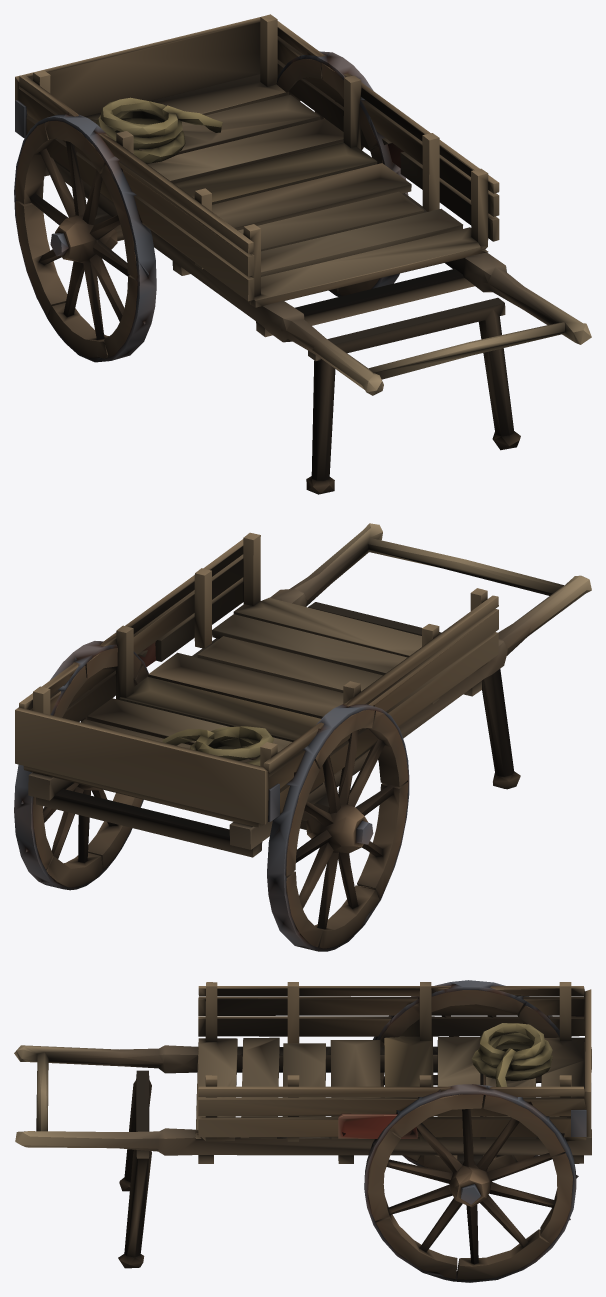
The model's file is handcart.glb.
The picture shows the model from 3 angles, top to bottom: view 1: azimuth 30°, elevation 25°; view 2: azimuth 150°, elevation 25°; view 3: azimuth 270°, elevation 25°; orthographic projection. The views are drawn at different scales.
Visible parts, largest first — view 1: handcart_LOD0; view 2: handcart_LOD0; view 3: handcart_LOD0.
Part boxes in pixels (x1=…): handcart_LOD0: x1=14, y1=14, x2=591, y2=494; handcart_LOD0: x1=14, y1=523, x2=591, y2=951; handcart_LOD0: x1=14, y1=980, x2=591, y2=1282.
Size of what is drawn, in the model's own units: 1.15 by 0.8324 by 2.19.
